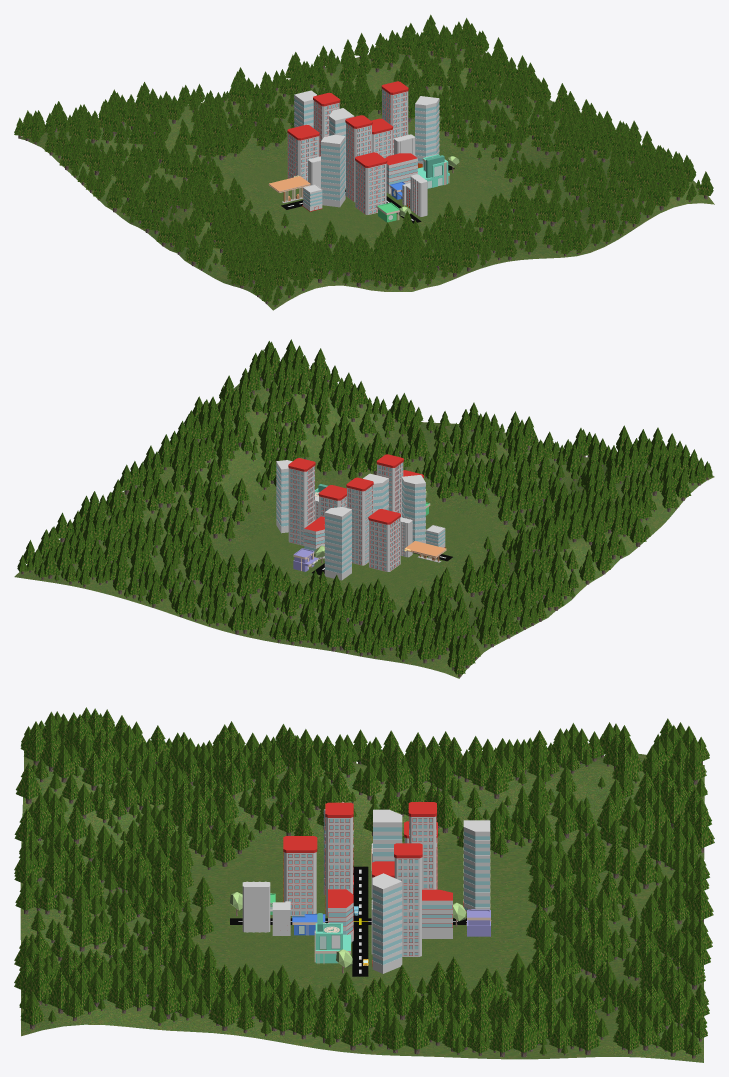
Rendered from NEW3JS-CITY-V1.glb.
3 views of the same model, one above another, from view 1: azimuth 30°, elevation 25°; view 2: azimuth 150°, elevation 25°; view 3: azimuth 270°, elevation 25° (orthographic). The views are drawn at different scales.
Visible parts, largest first — view 1: Plane.008, Plane.007, Building 100.002, Building 86.006, Building 86.005, Building 92.002, Building 100.003, Building 92.004, Building 82.002, Building 92.003, hospital.001, Building 100.001 (+5 smaller); view 2: Plane.008, Plane.007, Building 92.004, Building 86.004, Building 100.003, Building 92.003, Building 86.006, Building 92.002, Building 86.005, Building 100.001, Building 86.003, Building 82.003; view 3: Plane.008, Plane.007, Building 86.005, Building 92.002, Building 100.002, Building 92.004, Building 86.004, Building 92.003, Building 82.003, Building 97.004, Building 86.003, hospital.001 (+7 smaller).
Part boxes in pixels (bbox=[...]): Plane.008: bbox=[20, 42, 714, 310]; Plane.007: bbox=[235, 159, 492, 242]; Building 100.002: bbox=[355, 152, 387, 214]; Building 86.006: bbox=[321, 134, 345, 207]; Building 86.005: bbox=[415, 96, 439, 167]; Building 92.002: bbox=[345, 115, 372, 202]; Building 100.003: bbox=[287, 124, 319, 181]; Building 92.004: bbox=[381, 81, 408, 154]; Building 82.002: bbox=[385, 153, 417, 193]; Building 92.003: bbox=[313, 92, 340, 156]; hospital.001: bbox=[417, 154, 449, 188]; Building 100.001: bbox=[371, 118, 392, 158]; Plane.008: bbox=[14, 376, 714, 678]; Plane.007: bbox=[232, 482, 498, 594]; Building 92.004: bbox=[288, 458, 315, 545]; Building 86.004: bbox=[324, 507, 351, 580]; Building 100.003: bbox=[368, 509, 400, 571]; Building 92.003: bbox=[346, 477, 373, 565]; Building 86.006: bbox=[401, 475, 425, 543]; Building 92.002: bbox=[376, 454, 403, 517]; Building 86.005: bbox=[276, 460, 292, 533]; Building 100.001: bbox=[318, 485, 346, 517]; Building 86.003: bbox=[363, 473, 388, 512]; Building 82.003: bbox=[304, 516, 324, 559]; Plane.008: bbox=[20, 750, 704, 1062]; Plane.007: bbox=[230, 866, 490, 976]; Building 86.005: bbox=[372, 873, 402, 973]; Building 92.002: bbox=[325, 802, 353, 916]; Building 100.002: bbox=[283, 836, 317, 915]; Building 92.004: bbox=[394, 843, 422, 956]; Building 86.004: bbox=[463, 820, 490, 912]; Building 92.003: bbox=[408, 802, 436, 889]; Building 82.003: bbox=[422, 889, 452, 938]; Building 97.004: bbox=[242, 881, 270, 932]; Building 86.003: bbox=[373, 809, 402, 861]; hospital.001: bbox=[314, 913, 351, 963].
Size of the model in its own units: 540 by 88.09 by 538.
Materials: 50 (3 with a texture image).
